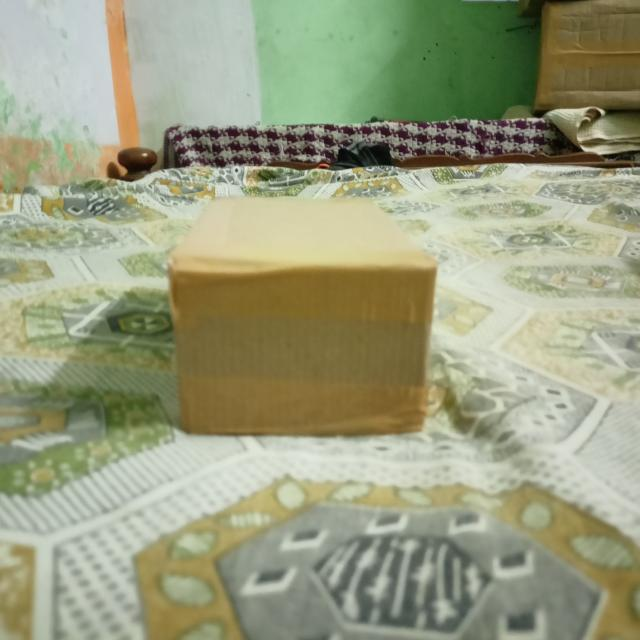box: (173, 264, 435, 429)
